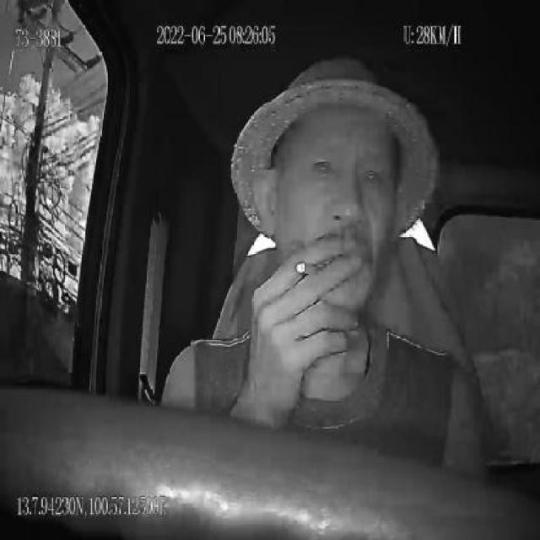smoking: (295, 255, 331, 277)
